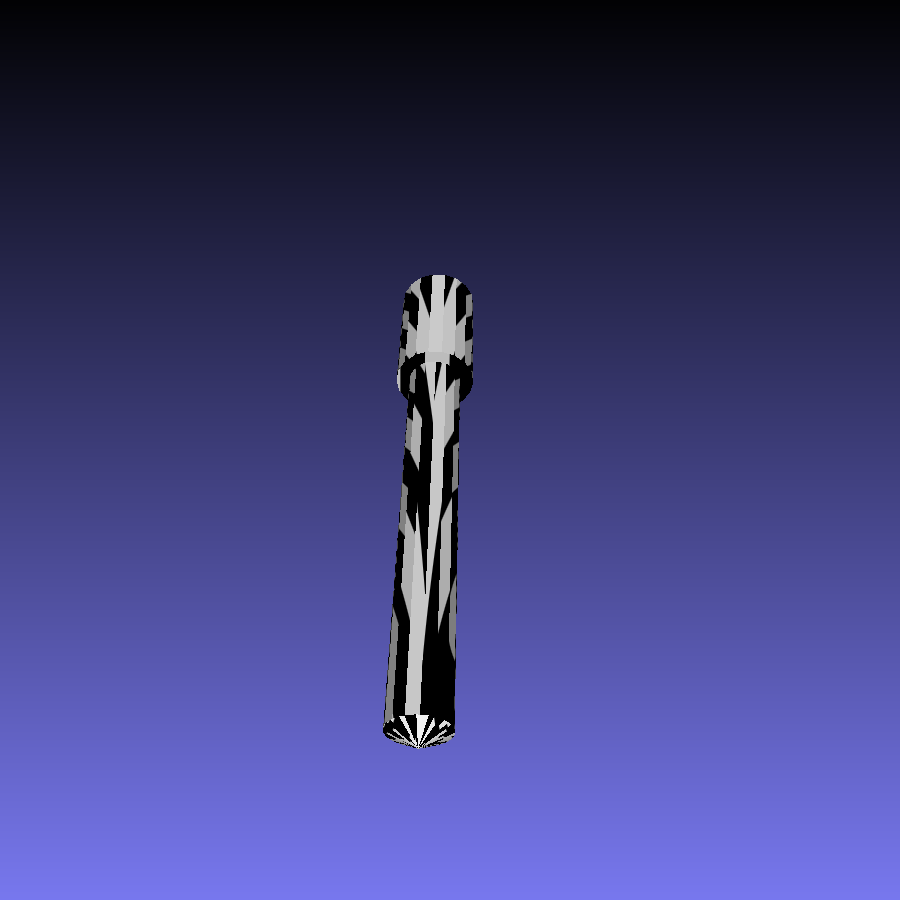cargo_g: (382, 274, 477, 752)
